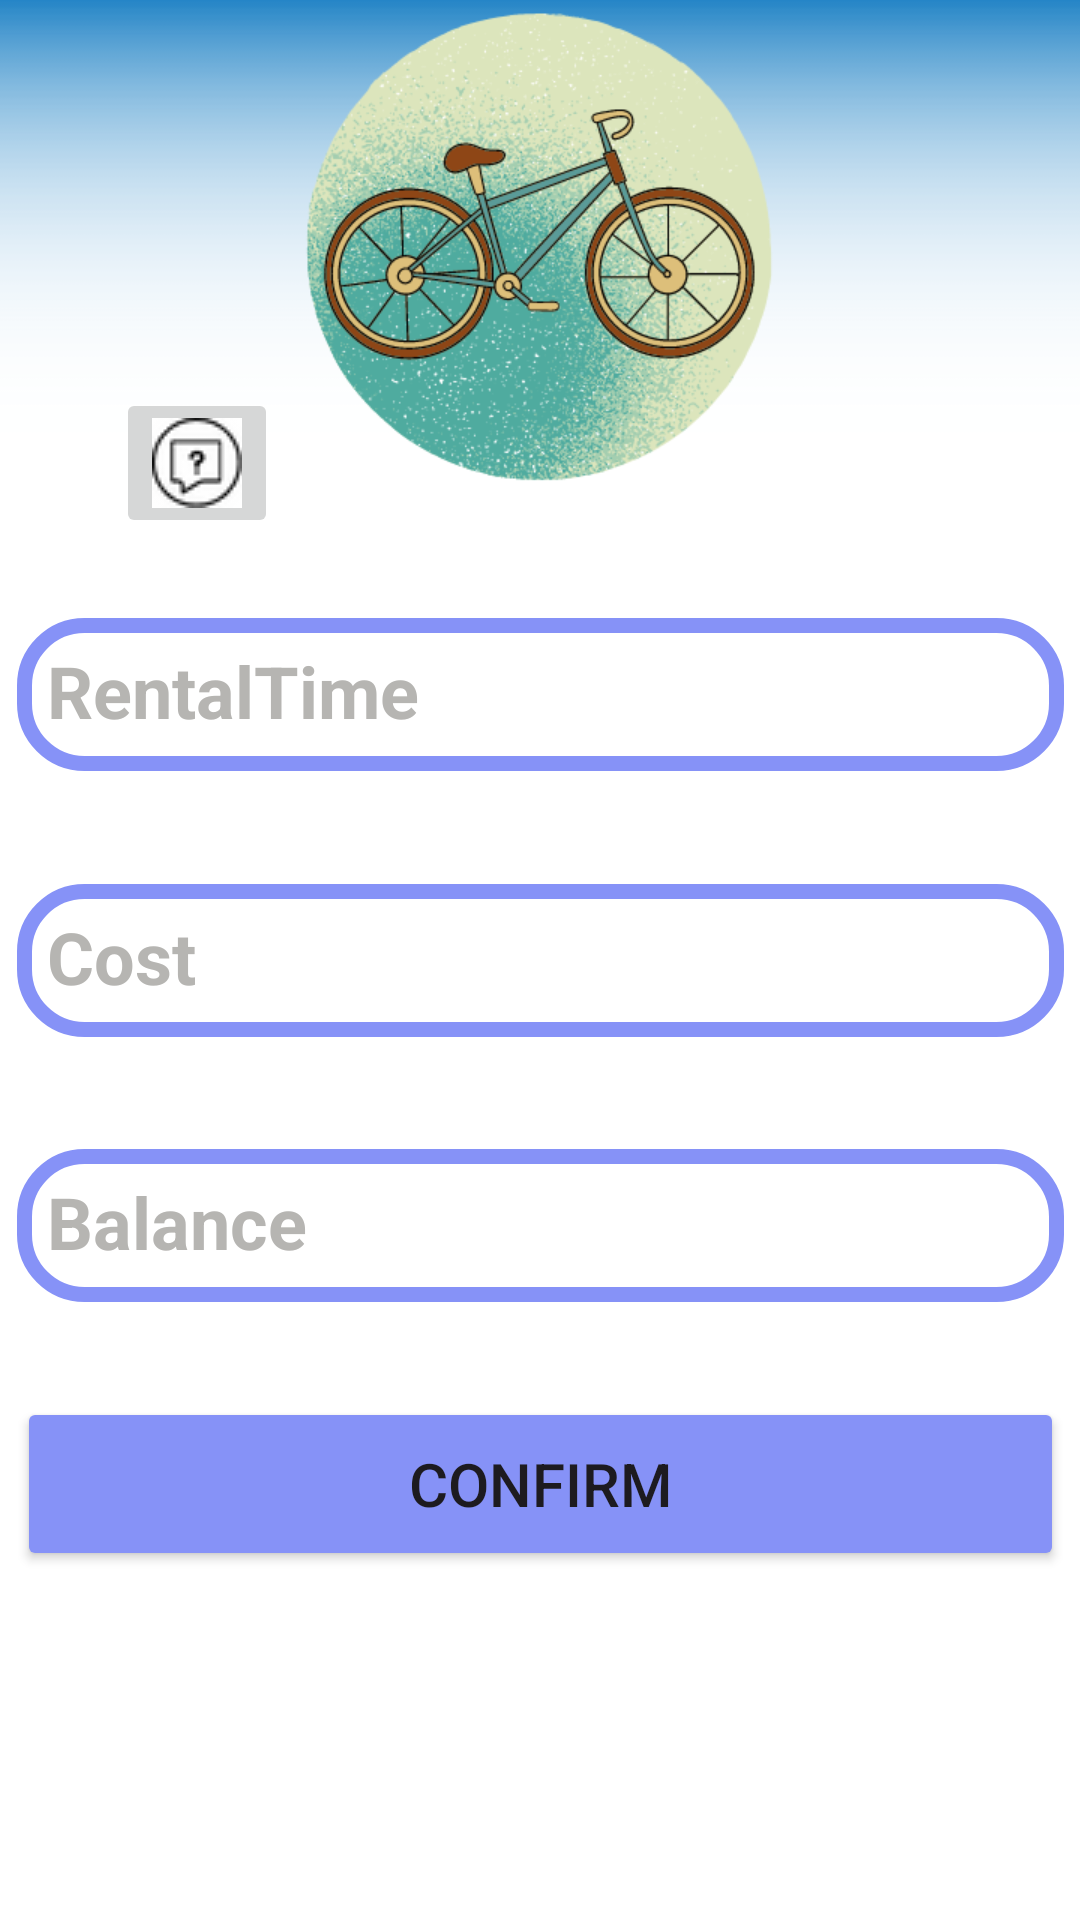

Where icons sit on this 1080*1920 app screen, as (x1, y1, x2, y2):
help: (128, 406, 266, 520)
